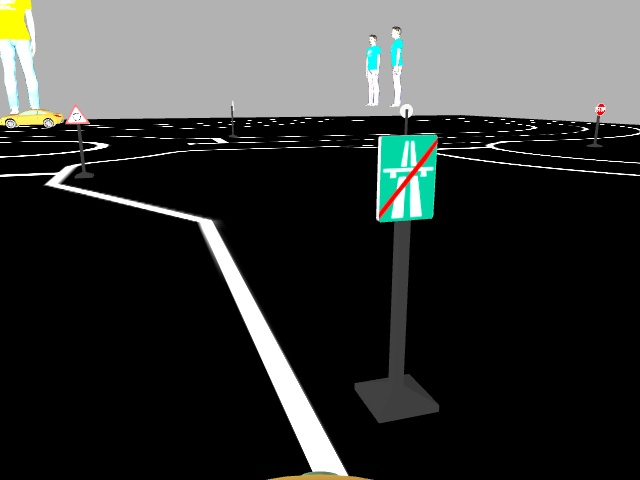HighwayExit: (374, 136, 438, 222)
